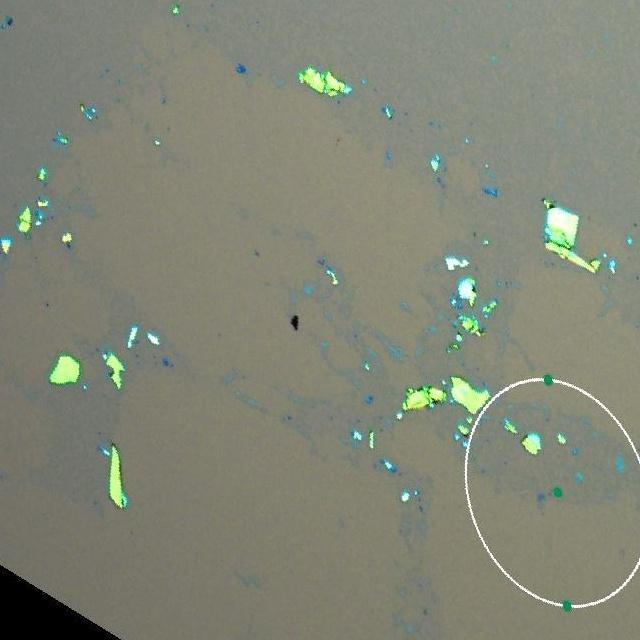monolayer-eWW4: (537, 494, 547, 502)
